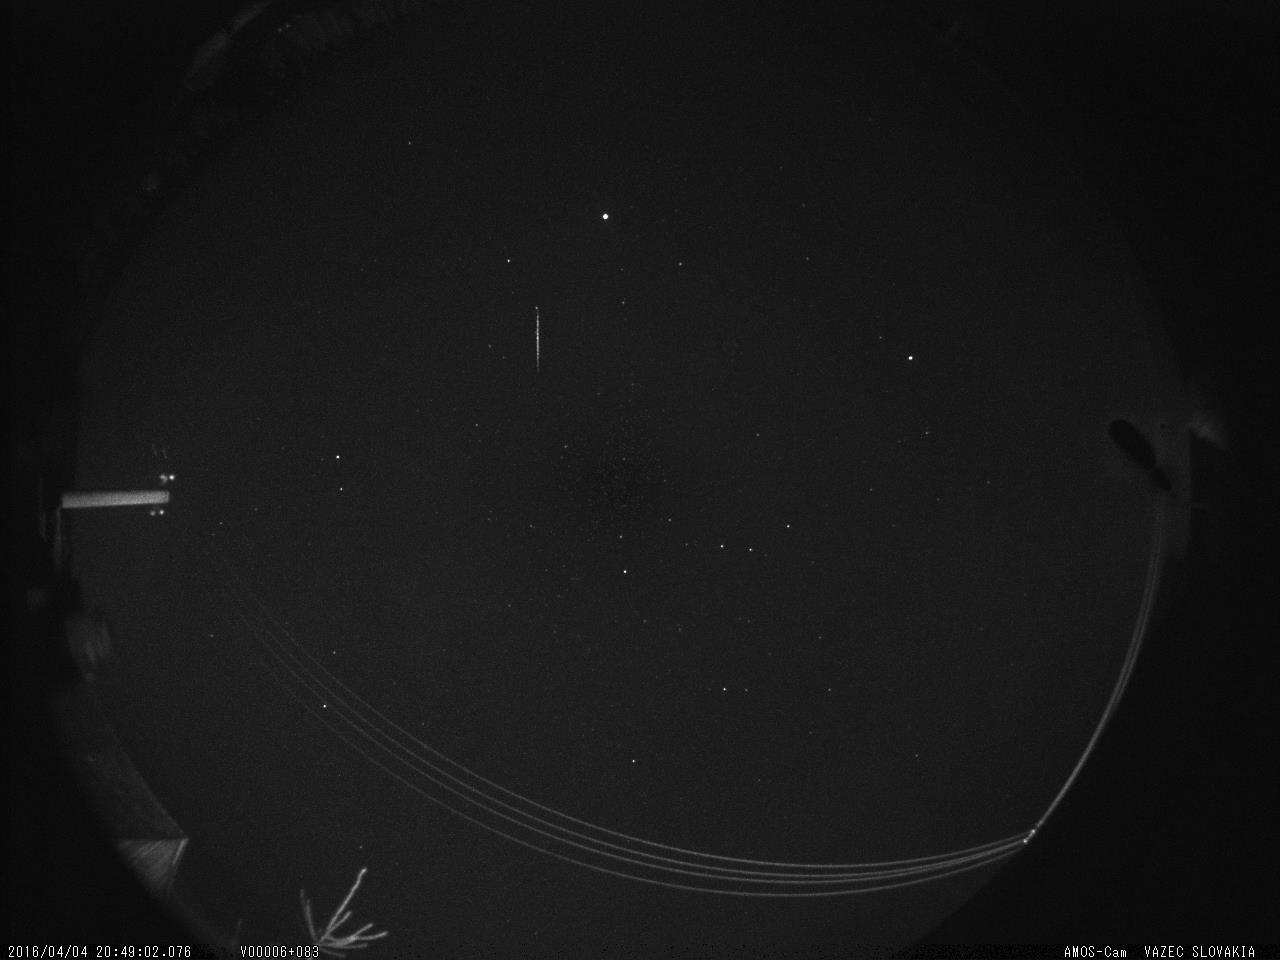meteor: (527, 298, 551, 384)
